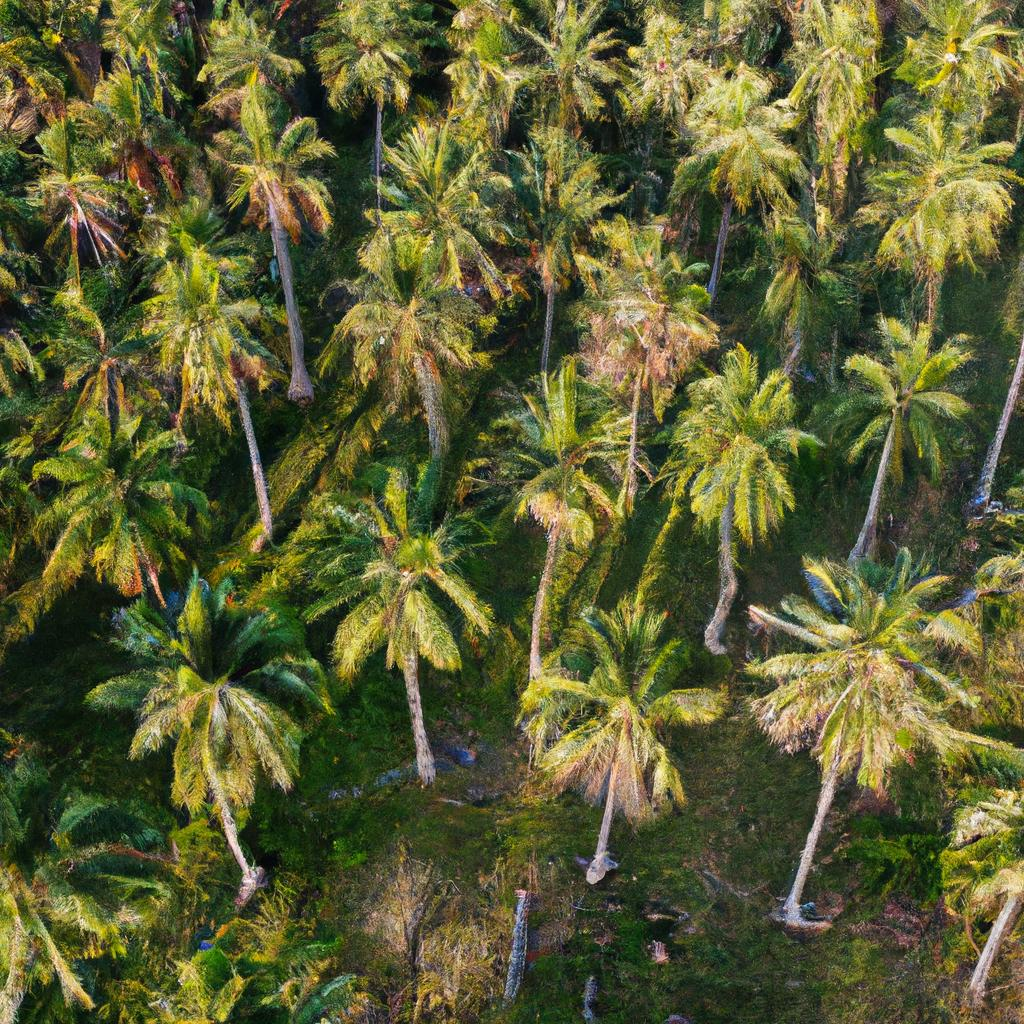coconut_tree: (749, 539, 1001, 805), (68, 580, 336, 818), (546, 599, 741, 864), (274, 474, 497, 704), (833, 302, 1001, 497), (670, 354, 825, 551), (133, 251, 266, 432), (879, 120, 1023, 278), (206, 84, 349, 238)
